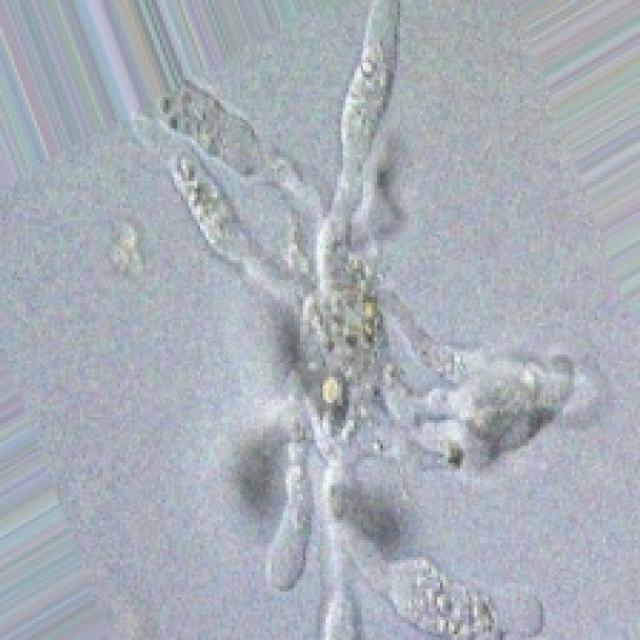Amoeba: (88, 74, 640, 639)
